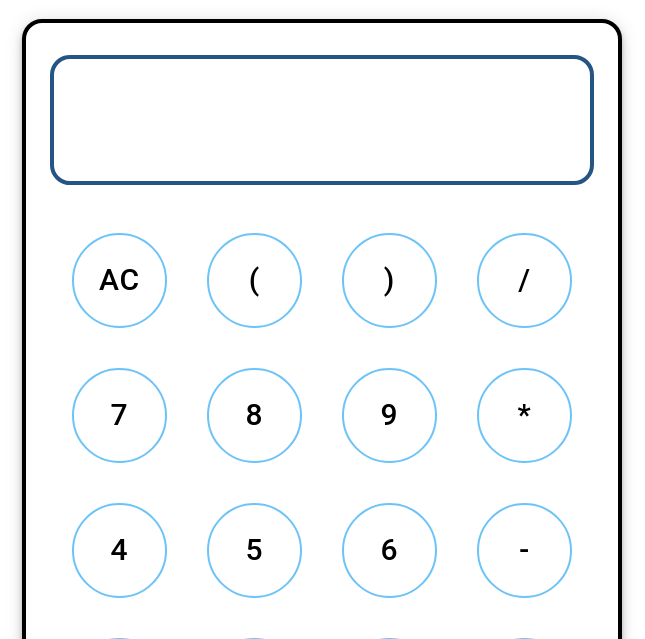
Test case: CalculatorComponent › When a number is clicked, it is concatenated to display
The image size is (645, 639).
Click the button "7" at (120, 416), box [72,368,167,463]
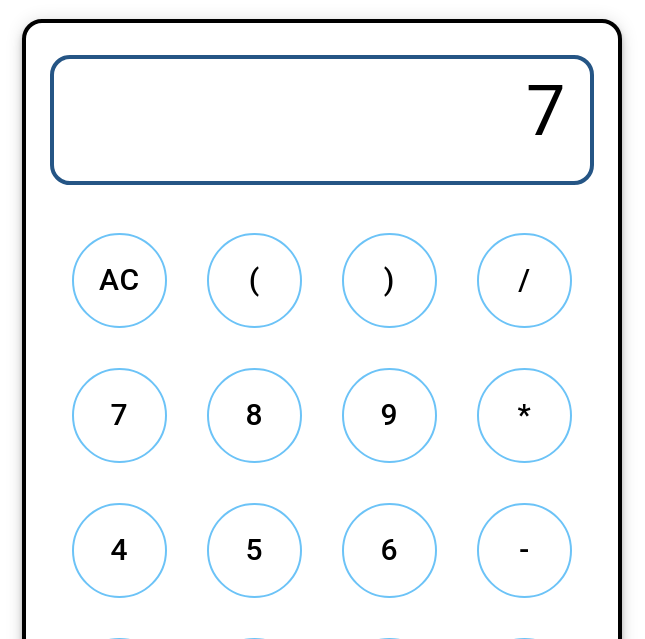
Check: the text with test id "display" reads "7", box [526,70,566,152]
